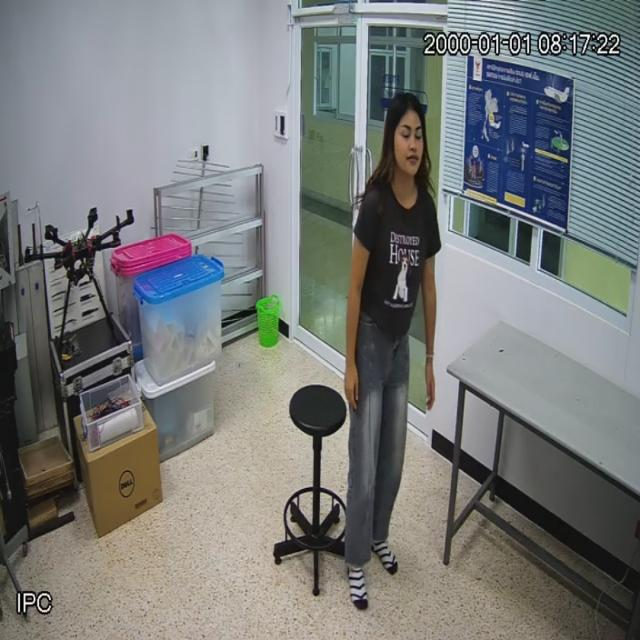normal: (347, 95, 439, 601)
